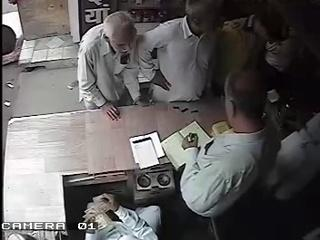Normal: (178, 68, 278, 236), (136, 0, 225, 104), (76, 11, 146, 121), (82, 190, 160, 240)
